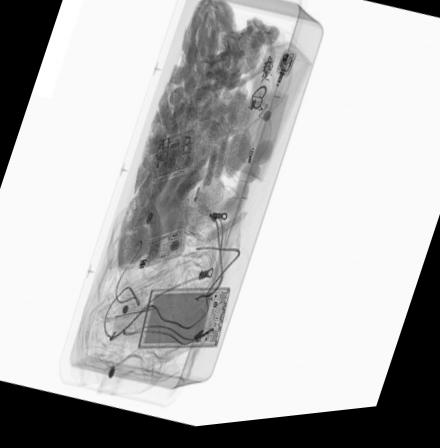Powerbank: (134, 291, 231, 354)
